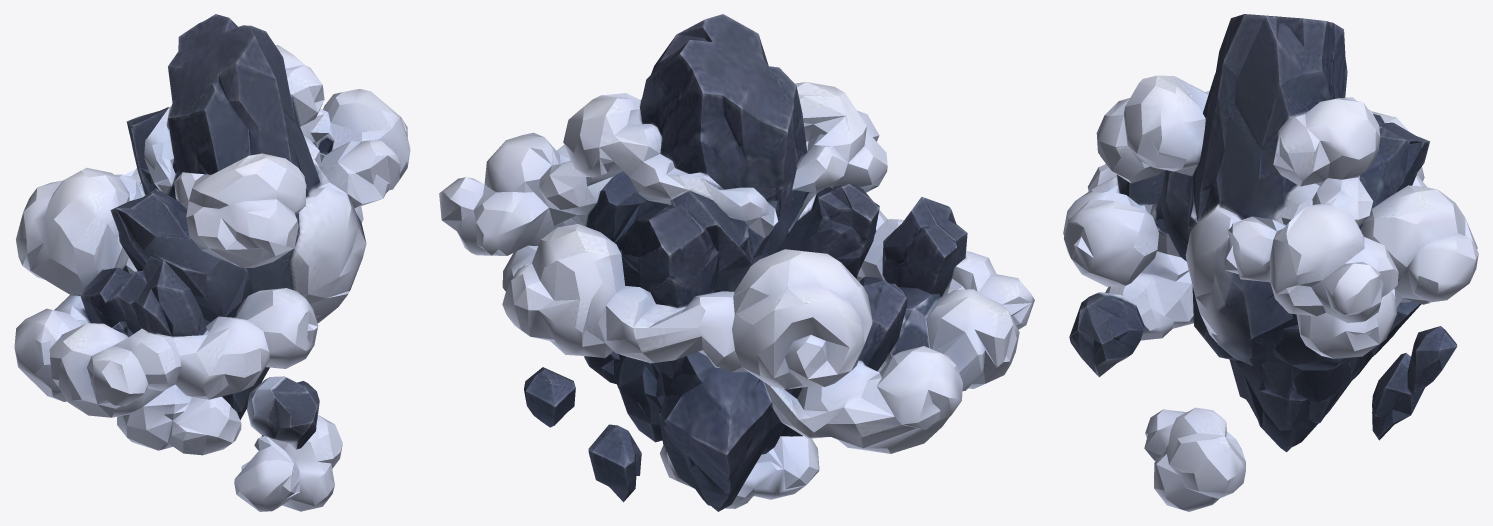
Rendered from cloudstone.glb.
The picture shows the model from 3 angles, left to right: view 1: azimuth 30°, elevation 25°; view 2: azimuth 150°, elevation 25°; view 3: azimuth 270°, elevation 25°; orthographic projection. The views are drawn at different scales.
Bounding box in the file's own units: 1.85 × 1.9 × 1.48.
1 material, 1 textured.
